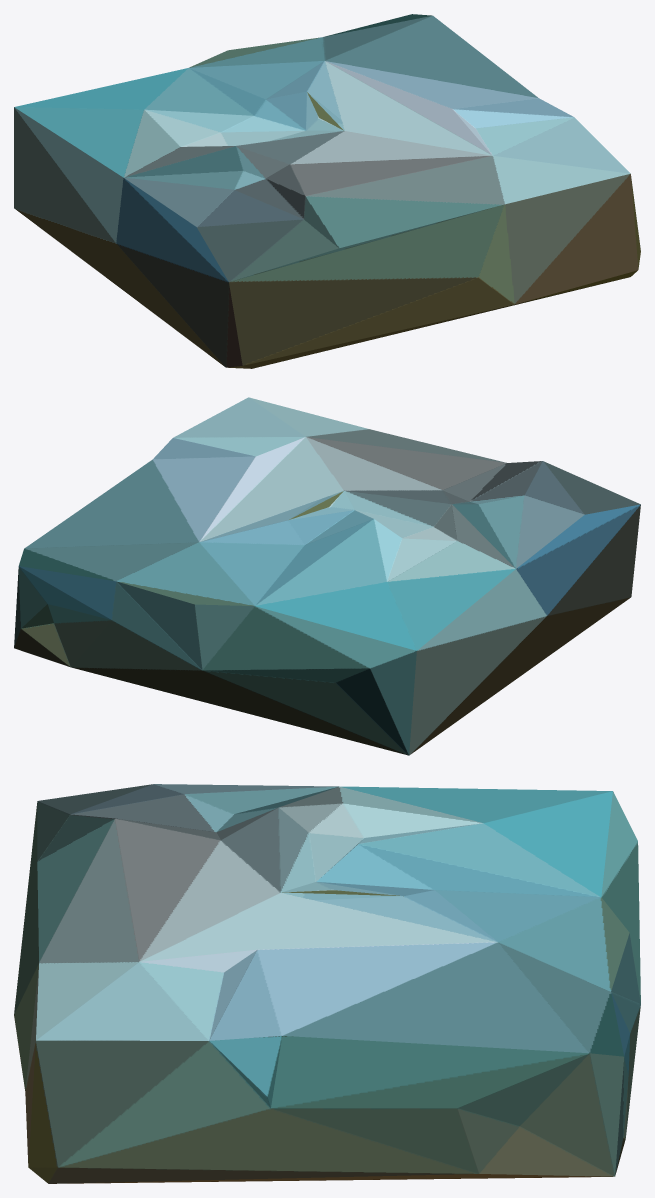
Rendered from ocean.fbx.
3 renders of one model, top to bottom at view 1: azimuth 30°, elevation 25°; view 2: azimuth 150°, elevation 25°; view 3: azimuth 270°, elevation 25°, orthographic. The views are drawn at different scales.
Visible parts, largest first — view 1: Mesh_0; view 2: Mesh_0; view 3: Mesh_0.
Part boxes in pixels (box(x1,y1,x2,y2)): Mesh_0: box(14, 14, 640, 368); Mesh_0: box(14, 397, 640, 755); Mesh_0: box(14, 784, 640, 1183).
Bounding box in the file's own units: 118 × 37.92 × 113.
1 material, 1 textured.
